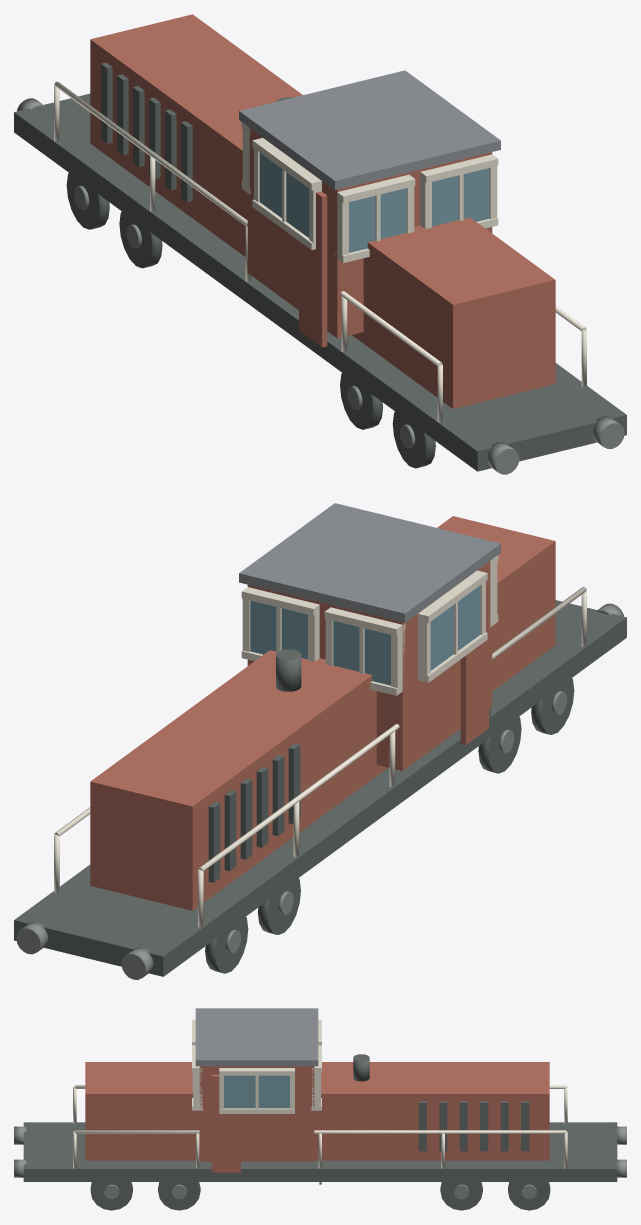
Rendered from rhine-v100_lod0.glb.
The picture shows the model from 3 angles, top to bottom: view 1: azimuth 30°, elevation 25°; view 2: azimuth 150°, elevation 25°; view 3: azimuth 270°, elevation 25°; orthographic projection. The views are drawn at different scales.
Parts seen in each view (by area): view 1: RF_ShortHood, RF_Chassis, RF_LongHood, RF_CabRoof, RF_CentreCab, RF_CabDoor.001, RF_Window.001, RF_Window.002, RF_Window.005, RF_WalkwayHandrail.001, RF_Wheel.005, RF_Wheel.003 (+15 smaller); view 2: RF_LongHood, RF_Chassis, RF_CabRoof, RF_ShortHood, RF_CentreCab, RF_CabDoor.001, RF_Window.003, RF_Window.004, RF_Window.005, RF_WalkwayHandrail.001, RF_Wheel.003, RF_Wheel.001 (+17 smaller); view 3: RF_LongHood, RF_Chassis, RF_ShortHood, RF_CabRoof, RF_CentreCab, RF_Window, RF_CabDoor, RF_WalkwayHandrail, RF_Wheel.002, RF_Wheel, RF_Wheel.004, RF_Wheel.006 (+11 smaller).
Part boxes in pixels (x1,y1,x2,y2): RF_ShortHood: [352, 217, 555, 408]; RF_Chassis: [14, 93, 626, 471]; RF_LongHood: [90, 14, 302, 256]; RF_CabRoof: [239, 70, 500, 190]; RF_CentreCab: [247, 128, 492, 338]; RF_CabDoor.001: [299, 191, 327, 347]; RF_Window.001: [349, 188, 406, 252]; RF_Window.002: [432, 168, 489, 226]; RF_Window.005: [259, 153, 309, 237]; RF_WalkwayHandrail.001: [54, 81, 442, 366]; RF_Wheel.005: [119, 211, 162, 268]; RF_Wheel.003: [340, 373, 382, 429]; RF_LongHood: [90, 650, 387, 910]; RF_Chassis: [14, 600, 626, 976]; RF_CabRoof: [239, 503, 500, 622]; RF_ShortHood: [437, 516, 555, 691]; RF_CentreCab: [247, 561, 492, 770]; RF_CabDoor.001: [460, 577, 488, 744]; RF_Window.003: [333, 621, 390, 685]; RF_Window.004: [250, 600, 307, 659]; RF_Window.005: [430, 585, 480, 670]; RF_WalkwayHandrail.001: [198, 587, 586, 871]; RF_Wheel.003: [478, 716, 521, 773]; RF_Wheel.001: [531, 678, 574, 734]; RF_LongHood: [314, 1062, 549, 1160]; RF_Chassis: [23, 1122, 617, 1181]; RF_ShortHood: [85, 1062, 199, 1160]; RF_CabRoof: [195, 1008, 318, 1066]; RF_CentreCab: [199, 1066, 314, 1161]; RF_Window: [224, 1075, 289, 1108]; RF_CabDoor: [211, 1074, 240, 1172]; RF_WalkwayHandrail: [75, 1130, 565, 1133]; RF_Wheel.002: [90, 1182, 132, 1210]; RF_Wheel: [508, 1182, 550, 1210]; RF_Wheel.004: [158, 1182, 200, 1210]; RF_Wheel.006: [440, 1182, 482, 1210].
Size of the model in its own units: 3.18 by 4.13 by 14.98.
